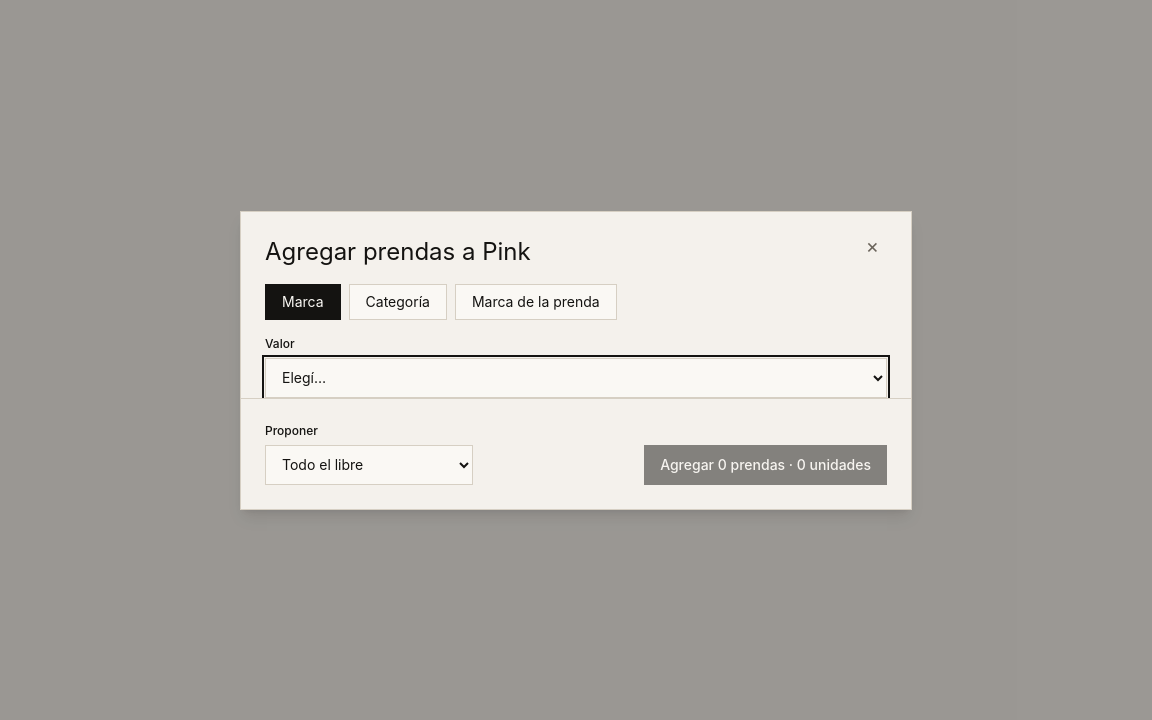
GroupAddModal › starts with nothing selected, with a header checkbox and its count
This screenshot has width=1152, height=720.
Select "Lote Pink" in the dropdown labelled "Valor": {"x": 576, "y": 378} [265,358,887,398]
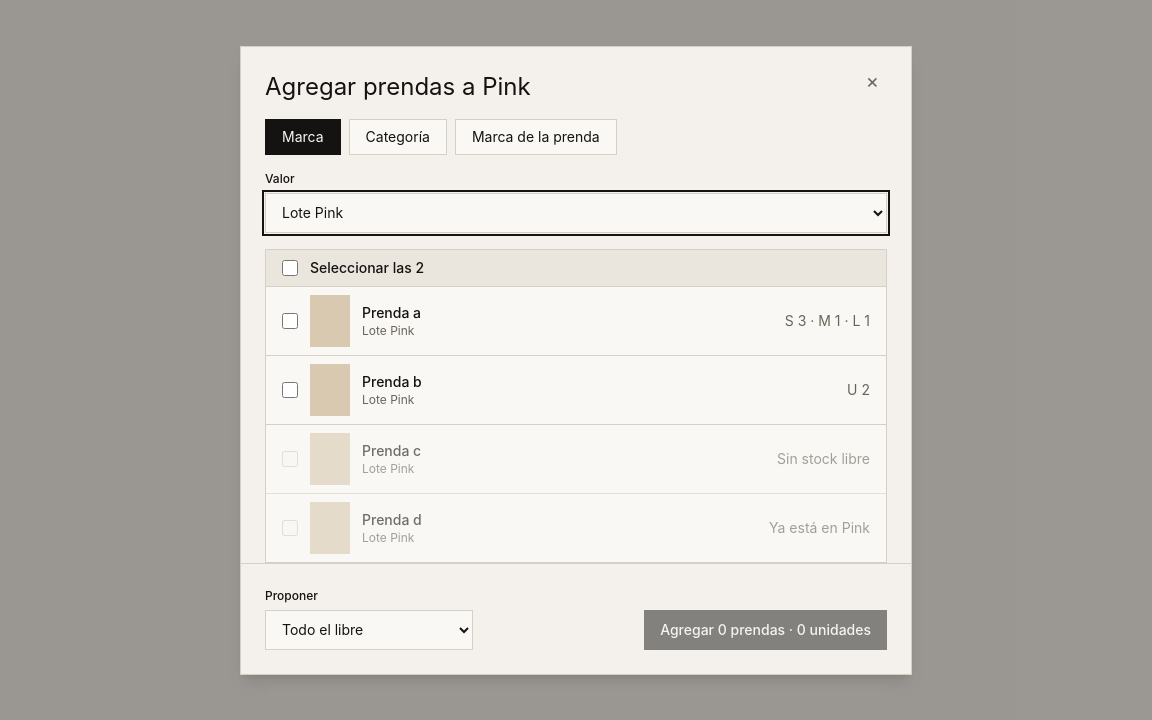
Expected: the text "Prenda a" is shown, [362,304,421,320]
Expected: the checkbox labelled "Seleccionar las 2" is not checked, [282,260,298,276]
Expected: the checkbox named "Seleccionar Prenda a" is not checked, [282,312,298,328]
Click the checkbox named "Seleccionar Prenda b": {"x": 290, "y": 390} [282,382,298,398]
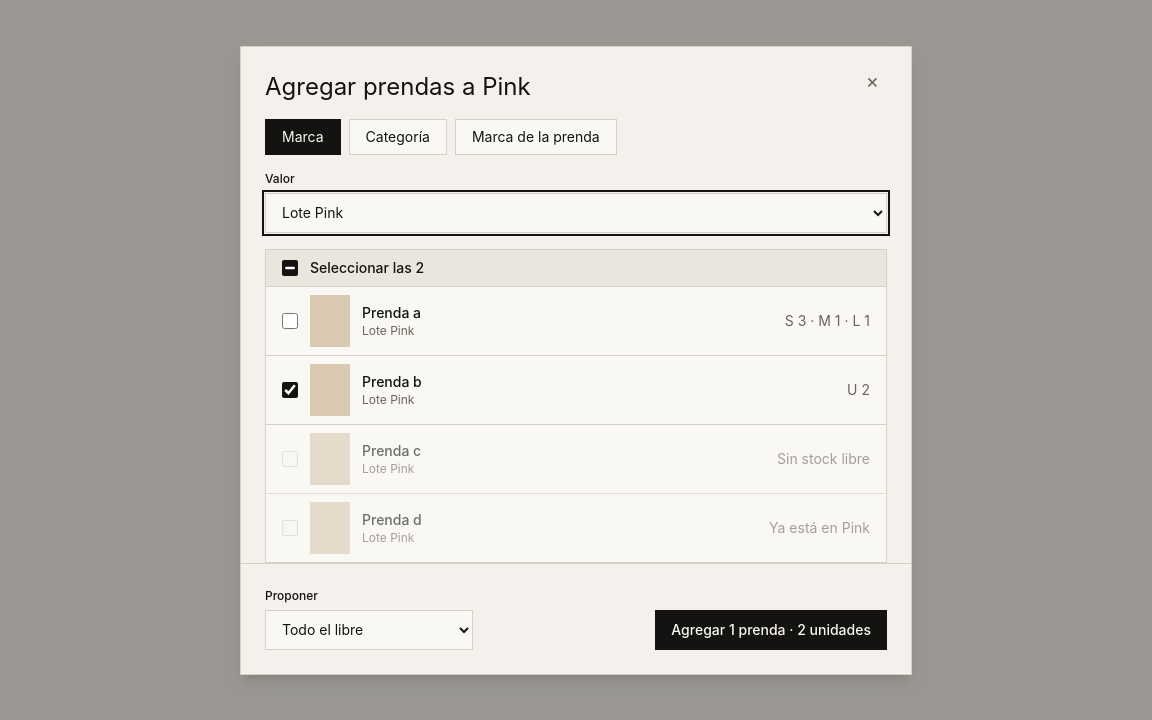
Expected: the checkbox labelled "Seleccionar las 2" is not checked
Click the checkbox labelled "Seleccionar las 2": {"x": 290, "y": 268} [282,260,298,276]
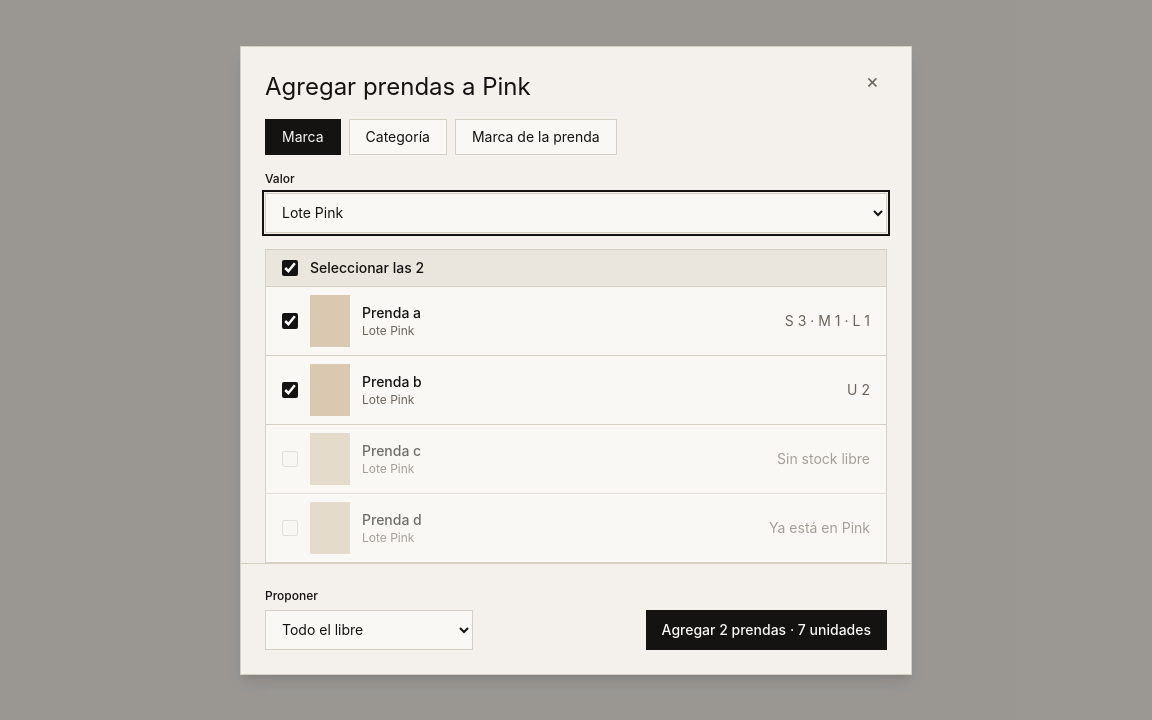
Expected: the checkbox named "Seleccionar Prenda b" is checked, [282,382,298,398]
Expected: the checkbox named "Seleccionar Prenda a" is checked, [282,312,298,328]
Click the checkbox labelled "Seleccionar las 2": {"x": 290, "y": 268} [282,260,298,276]
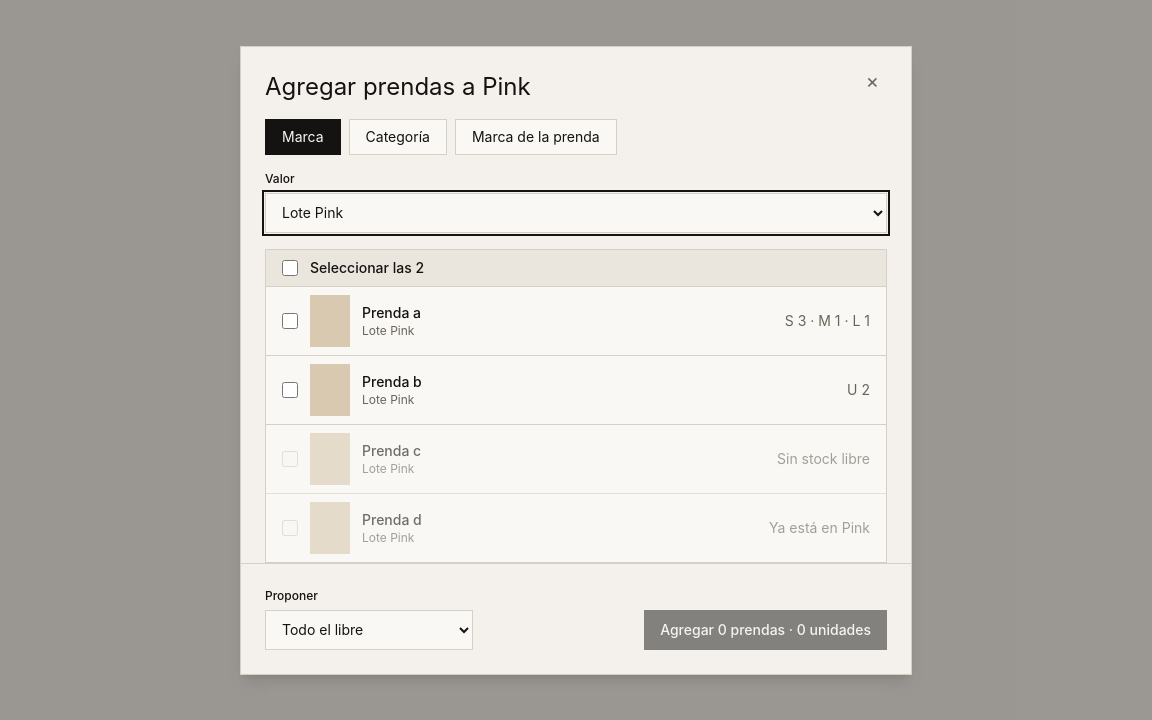
Expected: the checkbox named "Seleccionar Prenda a" is not checked, [282,312,298,328]
